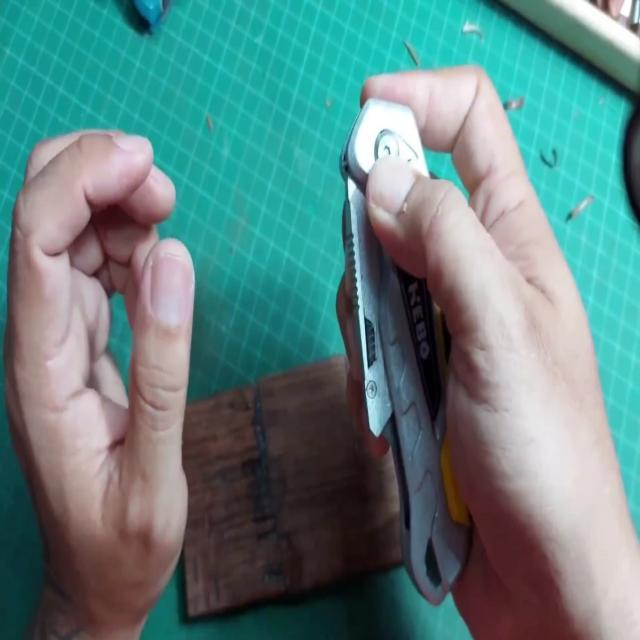cutter: (332, 71, 574, 634)
